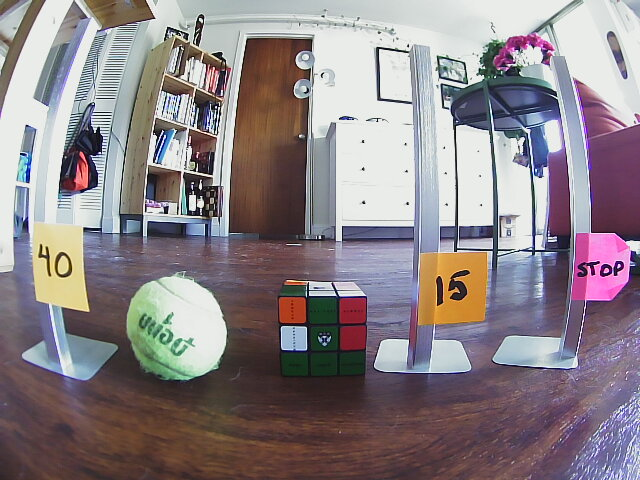15: (420, 253, 485, 319)
40: (34, 224, 85, 308)
ball: (125, 271, 227, 378)
cube: (279, 279, 367, 378)
stop: (574, 232, 625, 301)
